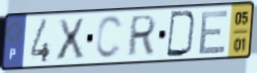4: (28, 17, 51, 65)
C: (94, 14, 125, 61)
D: (164, 10, 198, 59)
E: (197, 8, 230, 57)
R: (125, 13, 159, 58)
X: (55, 17, 86, 63)
